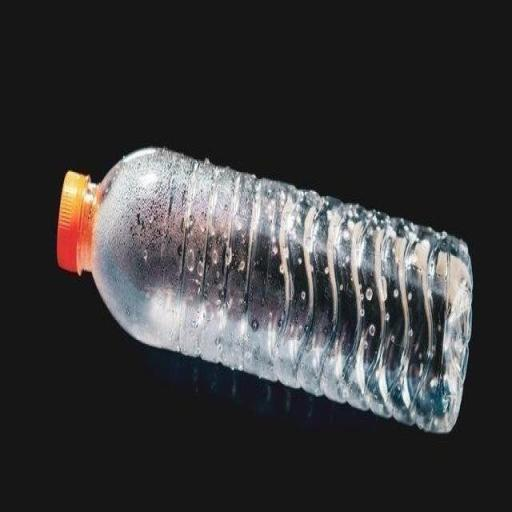plastic: (53, 136, 474, 432)
